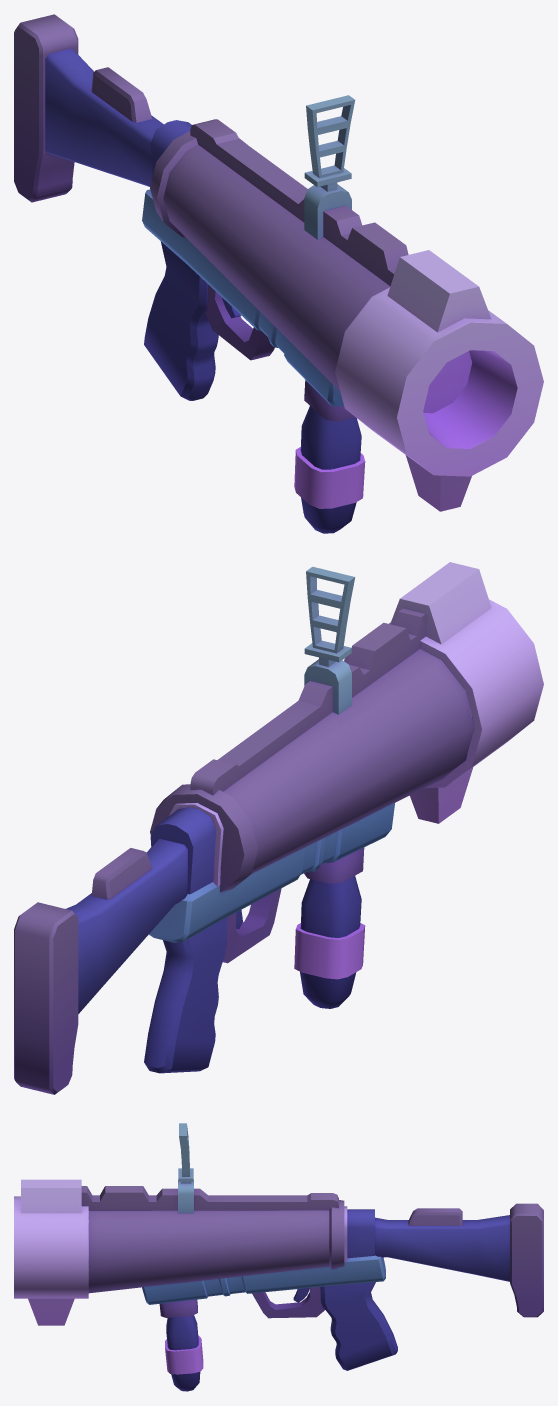
Rendered from LowPoly_GrenadeLauncherGun.fbx.
3 renders of one model, top to bottom at view 1: azimuth 30°, elevation 25°; view 2: azimuth 150°, elevation 25°; view 3: azimuth 270°, elevation 25°, orthographic. The views are drawn at different scales.
Visible parts, largest first — view 1: GrenadeLauncher; view 2: GrenadeLauncher; view 3: GrenadeLauncher.
Part boxes in pixels (x1,y1,x2,y2): GrenadeLauncher: (14,14,543,533); GrenadeLauncher: (14,562,543,1094); GrenadeLauncher: (14,1123,543,1391).
Size of the model in its own units: 66.19 by 185 by 341.
